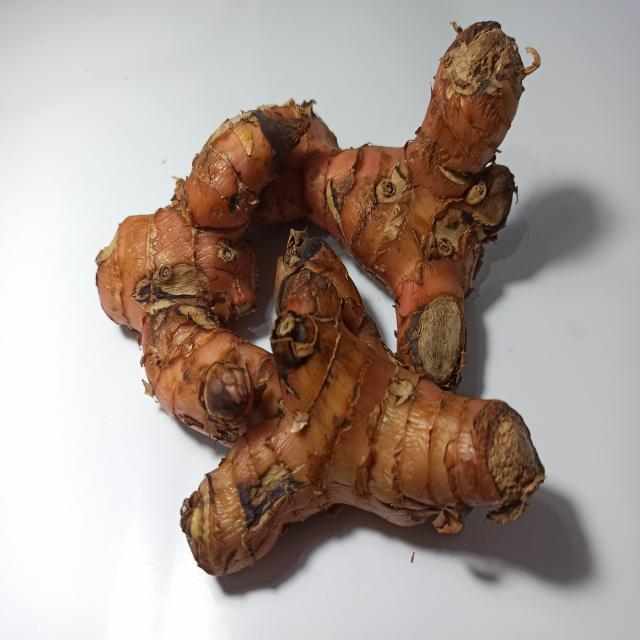ginger: (91, 27, 542, 544)
